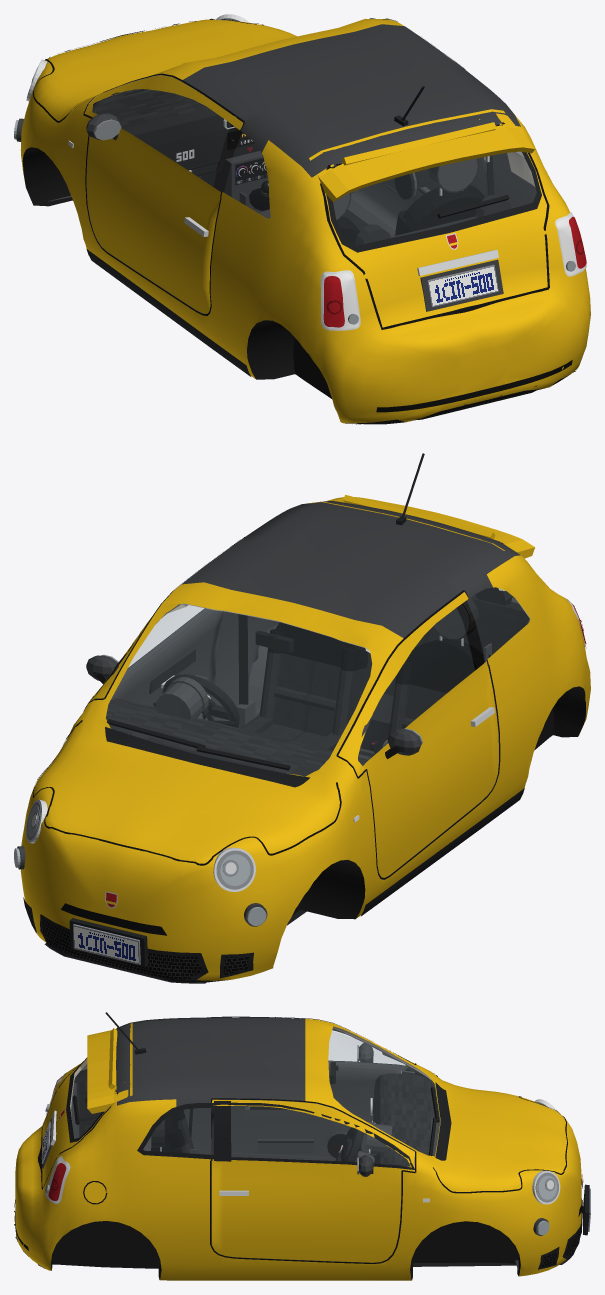
Rendered from abarth595c.glb.
The picture shows the model from 3 angles, top to bottom: view 1: azimuth 30°, elevation 25°; view 2: azimuth 150°, elevation 25°; view 3: azimuth 270°, elevation 25°; orthographic projection. The views are drawn at different scales.
Visible parts, largest first — view 1: Body, Door_L, Interior, Glass, Door_L_Glass, Door_R, Lights_Tail; view 2: Body, Glass, Interior, Door_L, Door_L_Glass, Door_R, Lights_Head, SteeringWheel; view 3: Body, Door_R, Glass, Door_L, Interior, Door_R_Glass, SteeringWheel, Lights_Head, Lights_Tail.
Part boxes in pixels (x1,y1,x2,y2): Body: (16, 14, 590, 424); Door_L: (84, 75, 243, 313); Interior: (95, 90, 532, 245); Glass: (225, 133, 535, 244); Door_L_Glass: (93, 90, 230, 185); Door_R: (383, 157, 488, 202); Lights_Tail: (323, 216, 586, 327); Body: (17, 453, 590, 983); Glass: (106, 588, 528, 775); Interior: (106, 587, 529, 776); Door_L: (338, 592, 498, 877); Door_L_Glass: (358, 608, 474, 764); Door_R: (85, 570, 223, 720); Lights_Head: (14, 805, 266, 925); SteeringWheel: (162, 674, 239, 727); Body: (14, 1012, 590, 1280); Door_R: (211, 1099, 414, 1262); Glass: (71, 1028, 439, 1155); Door_L: (211, 1028, 414, 1158); Interior: (71, 1062, 430, 1237); Door_R_Glass: (231, 1106, 409, 1165); SteeringWheel: (335, 1127, 363, 1161); Lights_Head: (537, 1175, 556, 1235); Lights_Tail: (48, 1076, 66, 1200).
Bounding box in the file's own units: 1.88 × 1.59 × 3.69.
44 materials, 15 textured.
